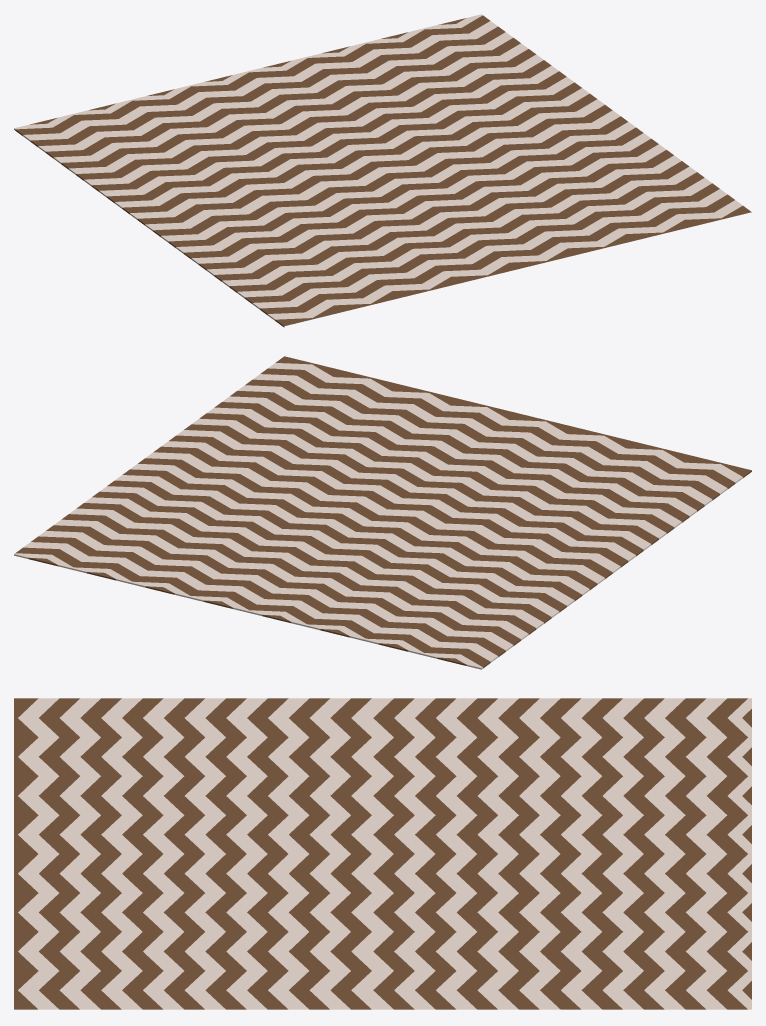
Rendered from Floor_4.fbx.
The picture shows the model from 3 angles, top to bottom: view 1: azimuth 30°, elevation 25°; view 2: azimuth 150°, elevation 25°; view 3: azimuth 270°, elevation 25°; orthographic projection. The views are drawn at different scales.
Visible parts, largest first — view 1: Floor_4; view 2: Floor_4; view 3: Floor_4.
Part boxes in pixels (x1,y1,x2,y2): Floor_4: (14,14,751,327); Floor_4: (14,356,751,669); Floor_4: (14,698,751,1009).
Size of the model in its own units: 491 by 492 by 1.45.
